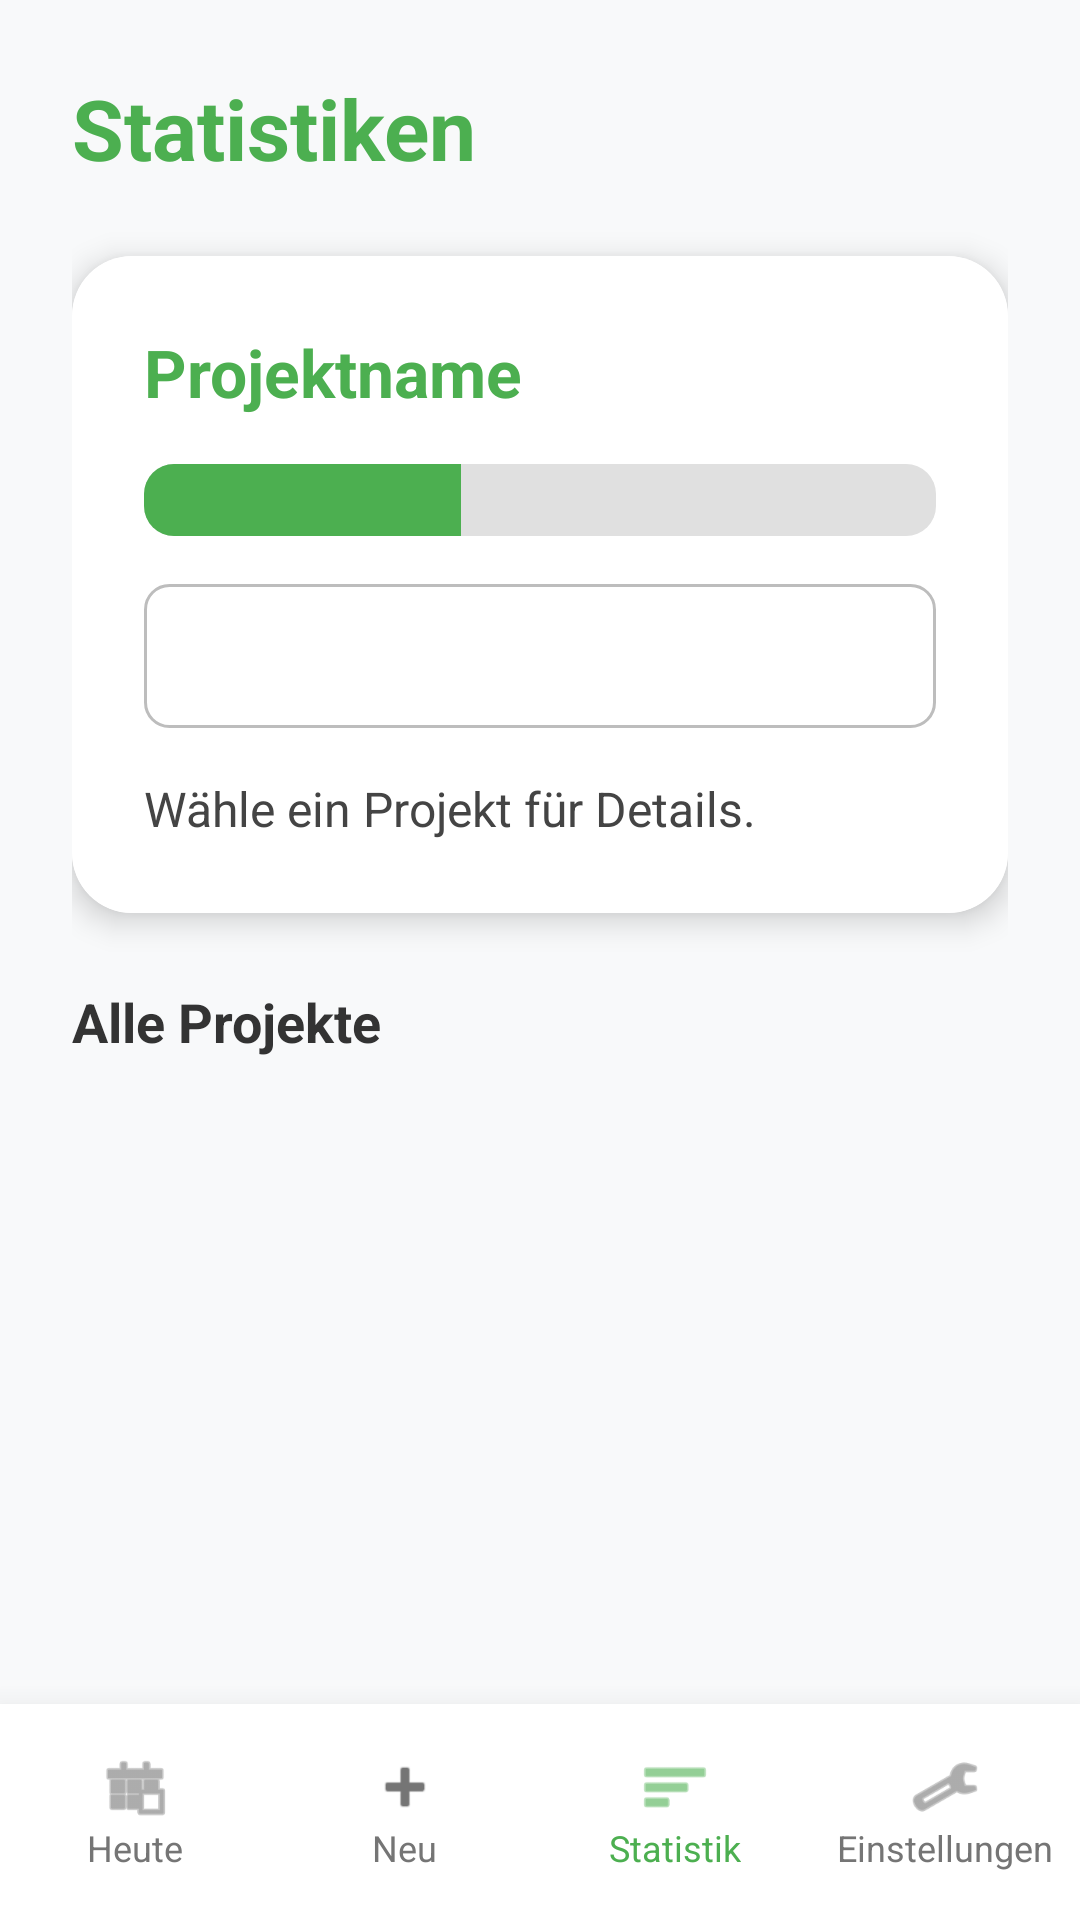

Named icons in this screenshot (1080px x 1920px) and their bounding boxes, (x1, y1, x2, y2):
manage: (913, 1762, 977, 1812)
sort by size: (644, 1767, 706, 1808)
